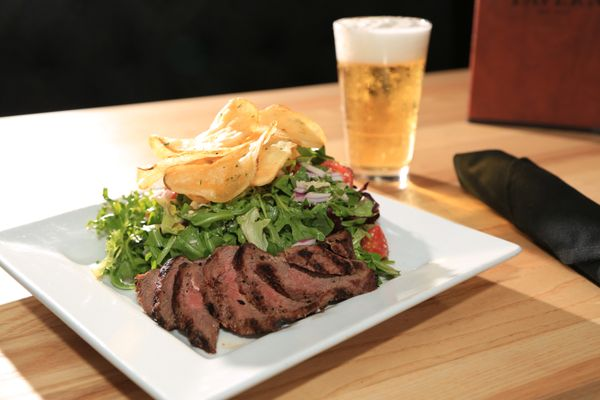soup: (87, 100, 399, 353)
